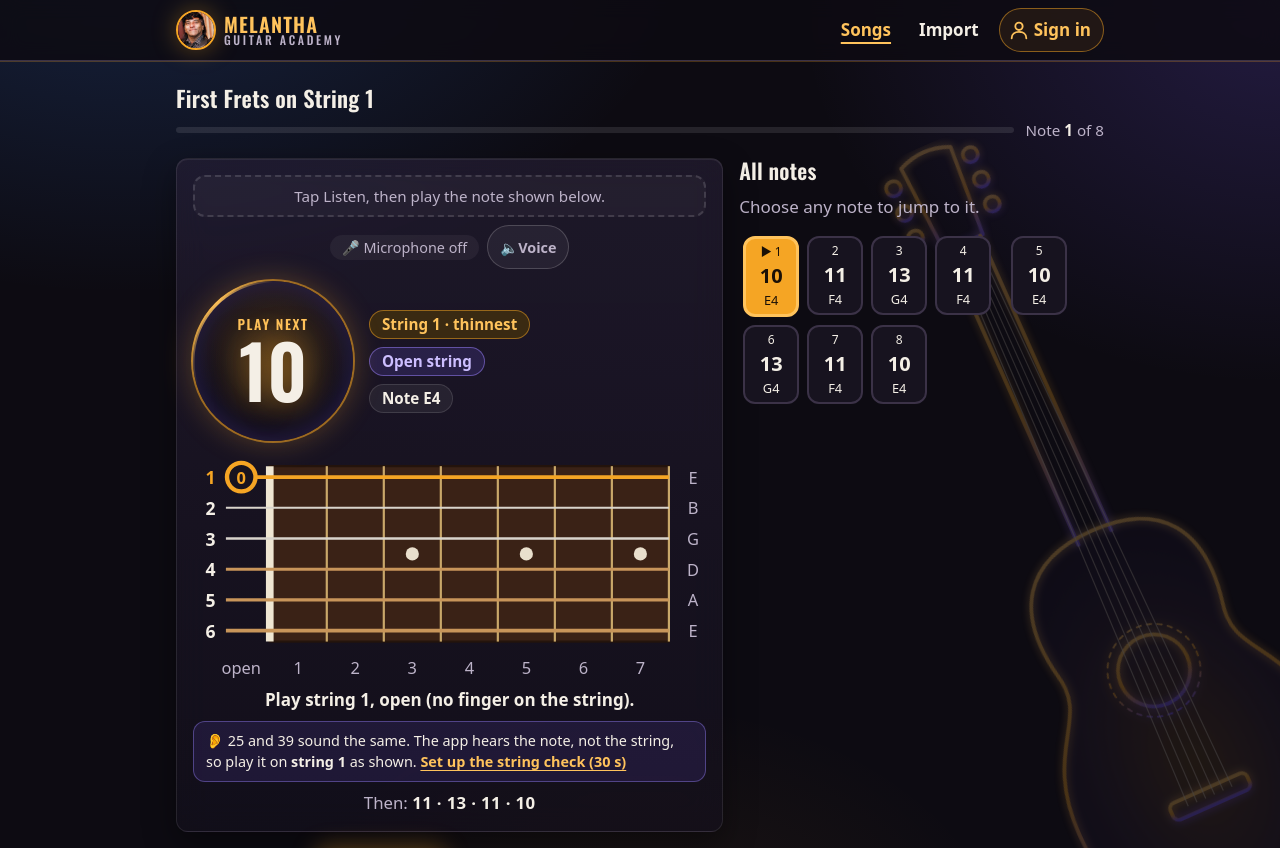
Test case: Practice navigation › disables Next on the last note
The image size is (1280, 848).
Click the button named "Note 8 of 8" at (899, 365), box [871,325,927,404]
(page scrolled)
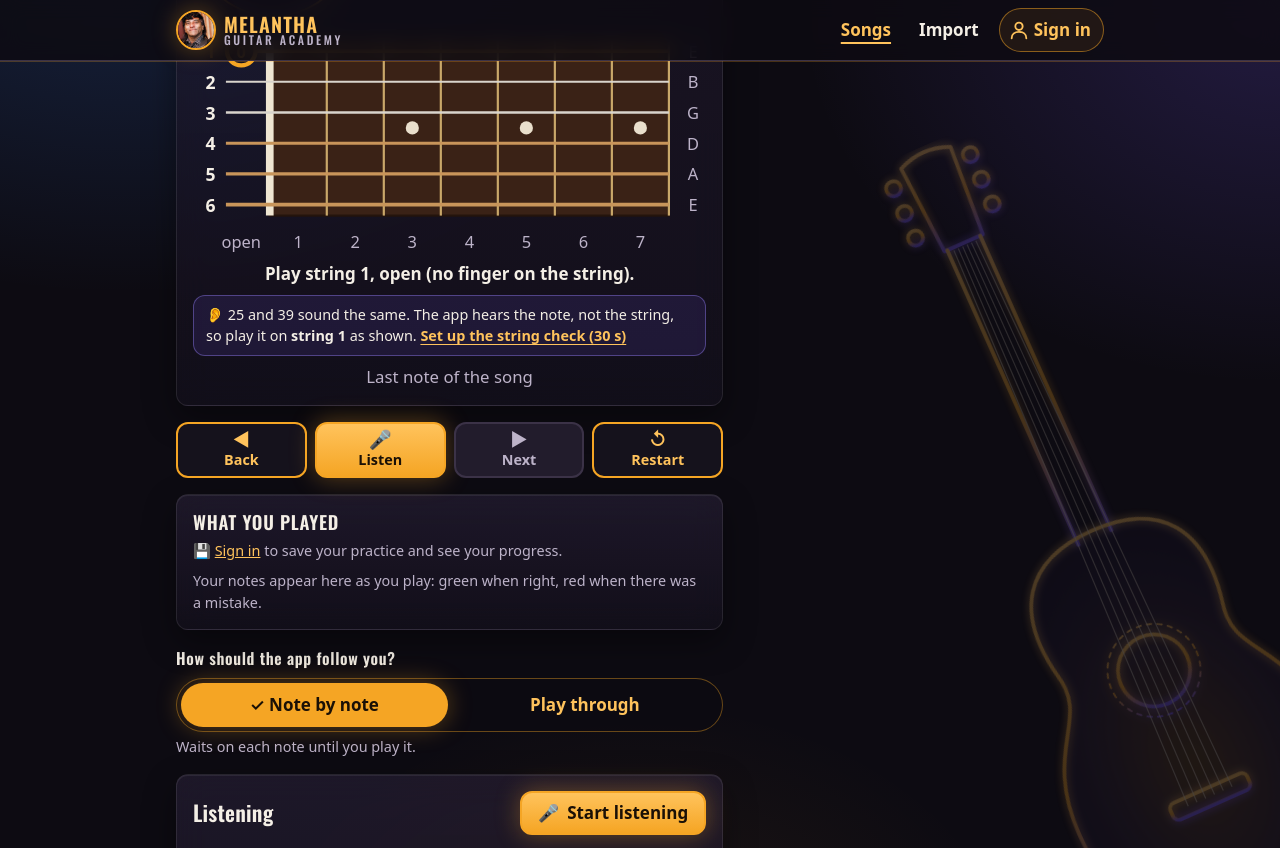
Check: the button "▶ Next" is disabled, box [454,422,584,478]
